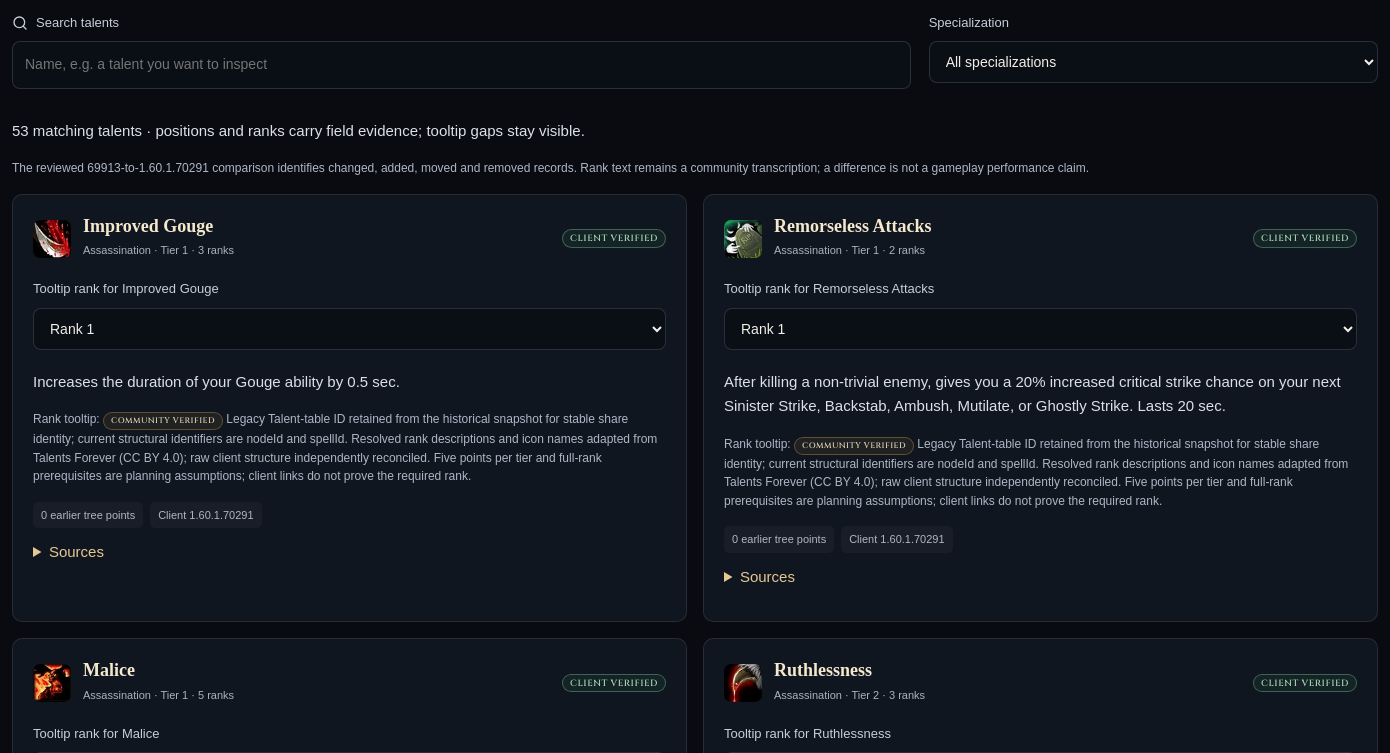
Scenario: shows both resolved current Remorseless Attacks ranks with their community source evidence
Type "Remorseless Attacks" into the field labelled "Search talents" at [461, 65], box [12,41,911,88]
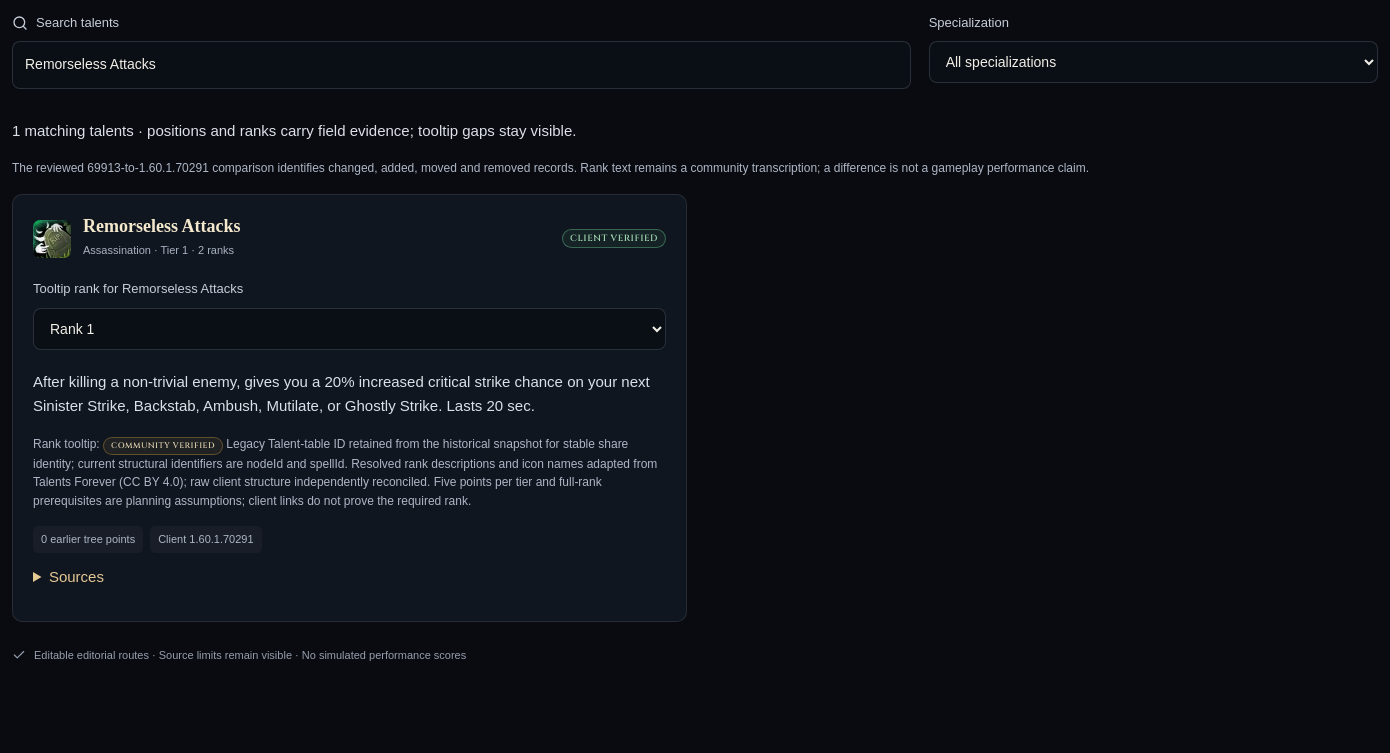
Select "Rank 1" in the dropdown labelled "Tooltip rank for Remorseless Attacks" at [350, 329], box [33,308,666,350]
Expected: the text "After killing a non-trivial enemy, gives you a 20% increased critical strike chance on your next Sinister Strike, Backst" is shown, [33,373,650,414]
Select "Rank 2" in the dropdown labelled "Tooltip rank for Remorseless Attacks" at [350, 329], box [33,308,666,350]
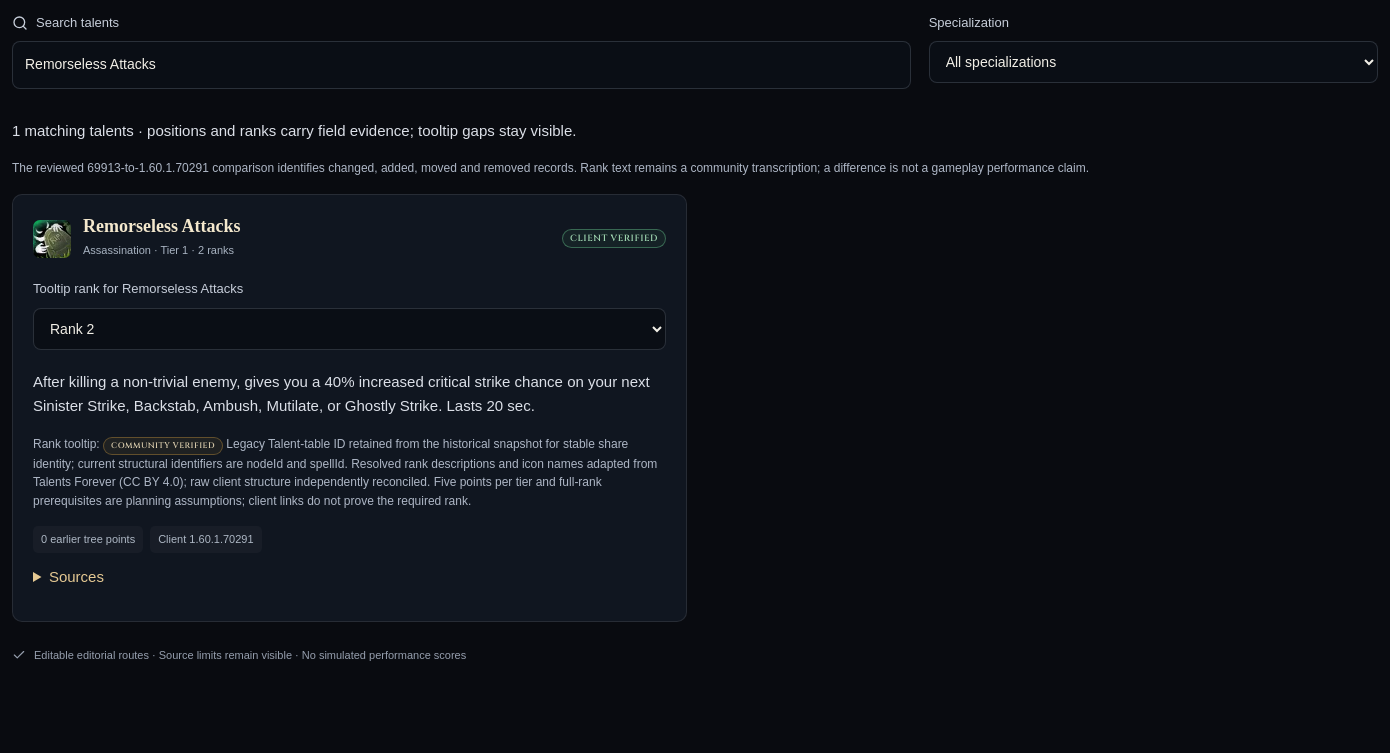
Expected: the text "After killing a non-trivial enemy, gives you a 40% increased critical strike chance on your next Sinister Strike, Backst" is shown, [33,373,650,414]
